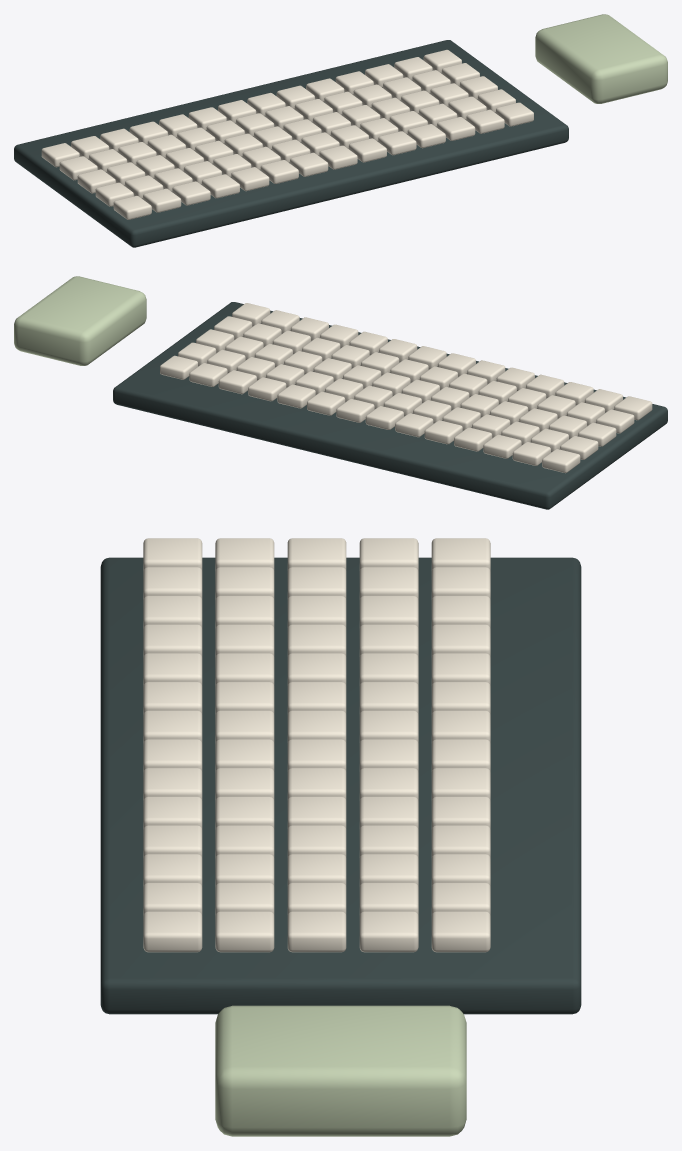
Rendered from keyboard-mouse.glb.
3 renders of one model, top to bottom at view 1: azimuth 30°, elevation 25°; view 2: azimuth 150°, elevation 25°; view 3: azimuth 270°, elevation 25°, orthographic. The views are drawn at different scales.
Visible parts, largest first — view 1: keyboard-mouse; view 2: keyboard-mouse; view 3: keyboard-mouse.
Part boxes in pixels (box(x1,y1,x2,y2)): keyboard-mouse: box(14, 14, 667, 247); keyboard-mouse: box(14, 276, 667, 509); keyboard-mouse: box(100, 538, 581, 1136).
Size of the model in its own units: 0.6 by 0.035 by 0.22.
